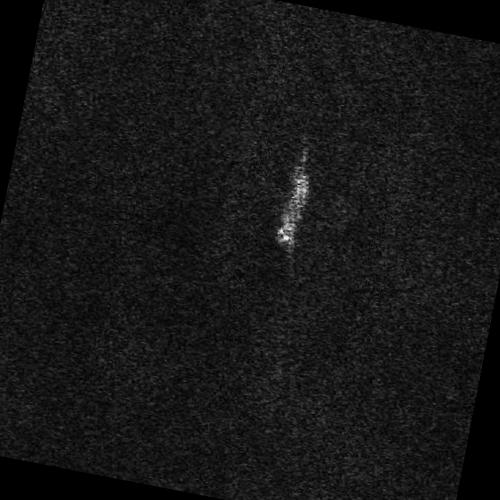ship: (276, 166, 310, 244)
